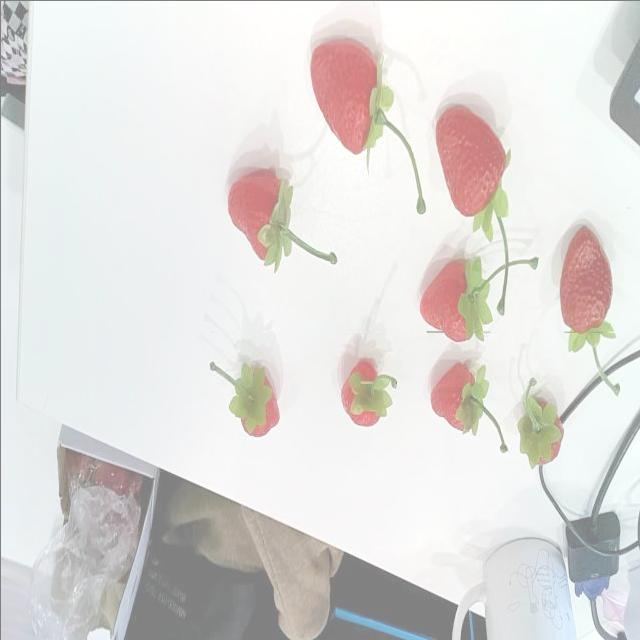ripe: (307, 32, 429, 222), (434, 97, 515, 317), (219, 158, 338, 280), (552, 226, 626, 392), (416, 255, 542, 348), (422, 350, 518, 464), (202, 354, 289, 441), (332, 347, 403, 432), (510, 376, 570, 470)
